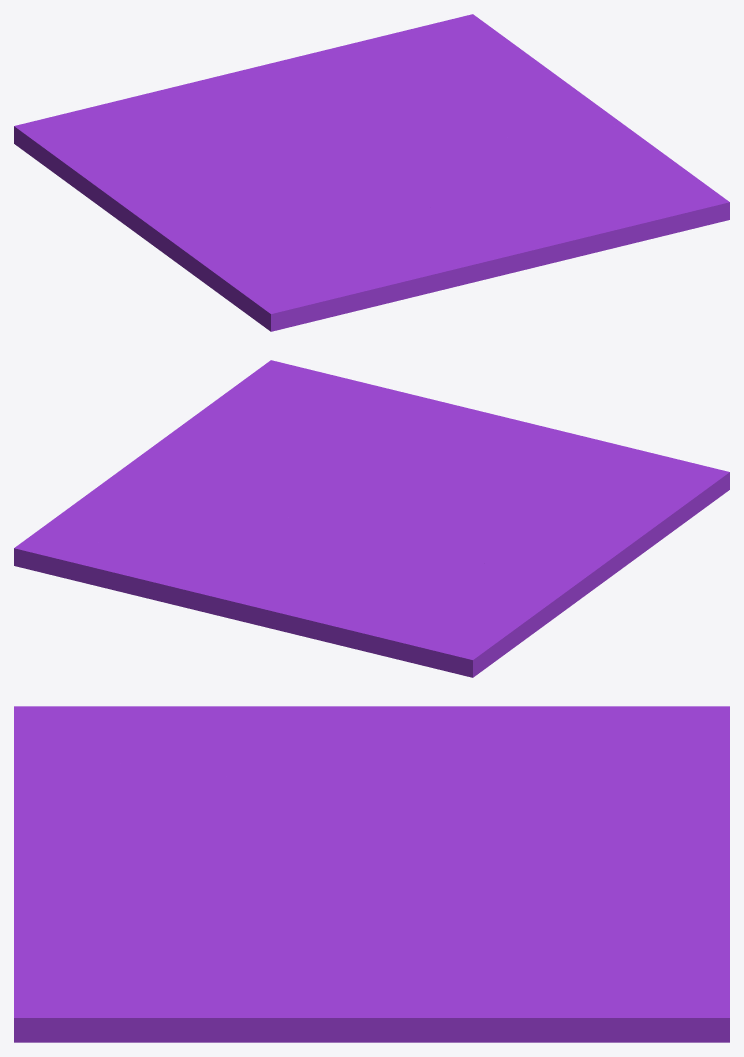
The model's file is Platform_5_chunks.fbx.
3 renders of one model, top to bottom at view 1: azimuth 30°, elevation 25°; view 2: azimuth 150°, elevation 25°; view 3: azimuth 270°, elevation 25°, orthographic. The views are drawn at different scales.
Visible parts, largest first — view 1: Platform_5_0, Platform_5_1, Platform_5_9, Platform_5_12, Platform_5_4, Platform_5_11, Platform_5_2, Platform_5_3, Platform_5_5, Platform_5_7, Platform_5_10, Platform_5_6 (+1 smaller); view 2: Platform_5_0, Platform_5_1, Platform_5_9, Platform_5_2, Platform_5_12, Platform_5_4, Platform_5_11, Platform_5_3, Platform_5_5, Platform_5_7, Platform_5_10, Platform_5_6 (+1 smaller); view 3: Platform_5_0, Platform_5_1, Platform_5_9, Platform_5_12, Platform_5_4, Platform_5_6, Platform_5_2, Platform_5_7, Platform_5_3, Platform_5_5, Platform_5_11, Platform_5_10 (+1 smaller).
Part boxes in pixels (left/top/right/bottom): Platform_5_0: left=366, top=124, right=729, bottom=270; Platform_5_1: left=14, top=70, right=257, bottom=201; Platform_5_9: left=93, top=170, right=327, bottom=271; Platform_5_12: left=296, top=214, right=520, bottom=301; Platform_5_4: left=256, top=49, right=440, bottom=154; Platform_5_11: left=188, top=230, right=393, bottom=331; Platform_5_2: left=241, top=18, right=457, bottom=108; Platform_5_3: left=99, top=133, right=380, bottom=186; Platform_5_5: left=388, top=98, right=623, bottom=150; Platform_5_7: left=420, top=14, right=525, bottom=101; Platform_5_10: left=311, top=166, right=467, bottom=231; Platform_5_6: left=481, top=53, right=622, bottom=123; Platform_5_0: left=165, top=360, right=493, bottom=511; Platform_5_1: left=246, top=568, right=555, bottom=677; Platform_5_9: left=415, top=501, right=654, bottom=618; Platform_5_2: left=30, top=542, right=316, bottom=625; Platform_5_12: left=462, top=414, right=664, bottom=504; Platform_5_4: left=103, top=511, right=365, bottom=579; Platform_5_11: left=545, top=456, right=729, bottom=549; Platform_5_3: left=348, top=511, right=554, bottom=598; Platform_5_5: left=164, top=437, right=335, bottom=517; Platform_5_7: left=14, top=503, right=203, bottom=574; Platform_5_10: left=379, top=441, right=495, bottom=528; Platform_5_6: left=67, top=438, right=182, bottom=509; Platform_5_0: left=14, top=857, right=399, bottom=1042; Platform_5_1: left=497, top=706, right=729, bottom=860; Platform_5_9: left=223, top=706, right=497, bottom=826; Platform_5_12: left=14, top=750, right=260, bottom=866; Platform_5_4: left=391, top=825, right=651, bottom=976; Platform_5_6: left=278, top=963, right=631, bottom=1042; Platform_5_2: left=608, top=842, right=729, bottom=1007; Platform_5_7: left=484, top=939, right=729, bottom=1042; Platform_5_3: left=371, top=707, right=540, bottom=873; Platform_5_5: left=232, top=879, right=496, bottom=1042; Platform_5_11: left=14, top=706, right=235, bottom=777; Platform_5_10: left=113, top=805, right=395, bottom=864.
Size of the model in its own units: 810 by 29.87 by 786.
